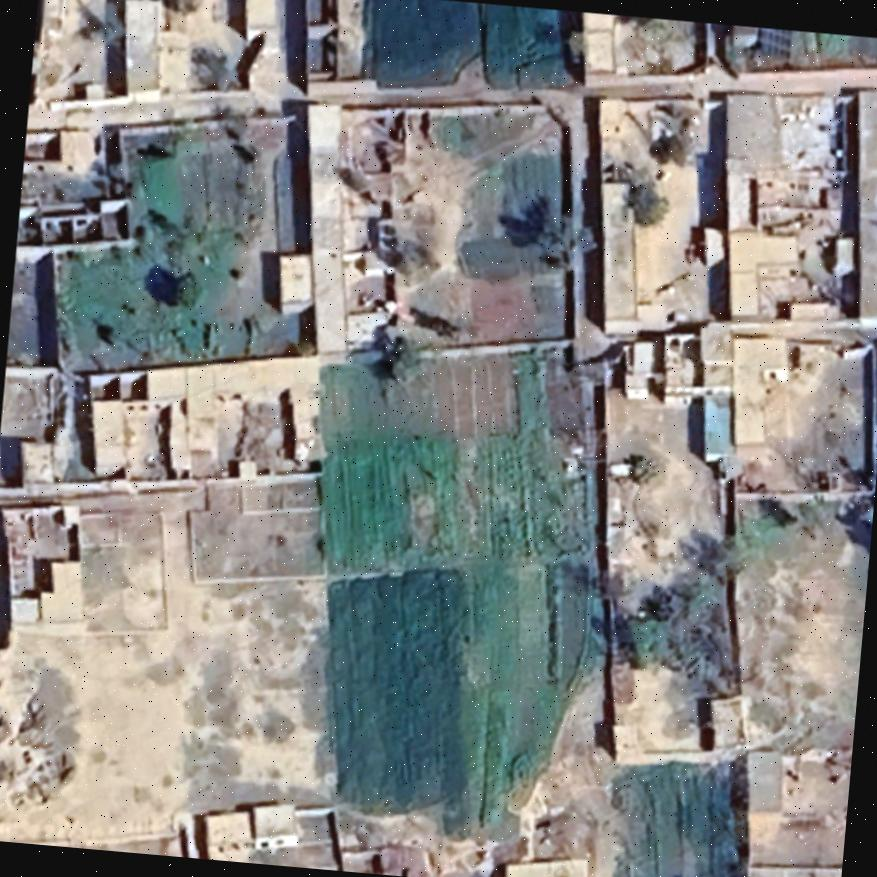Solarpanel: (751, 26, 795, 63)
